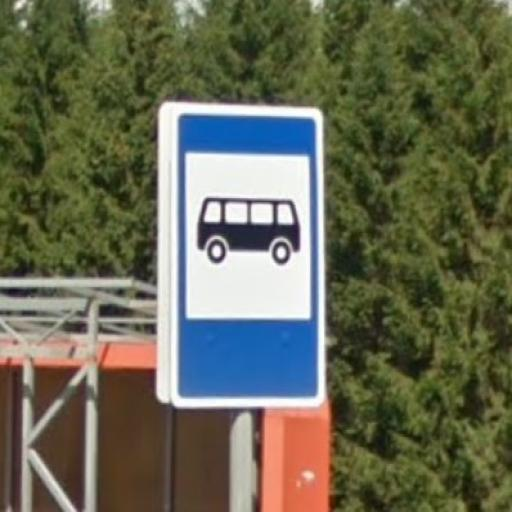traffic_sign: (171, 109, 325, 411)
